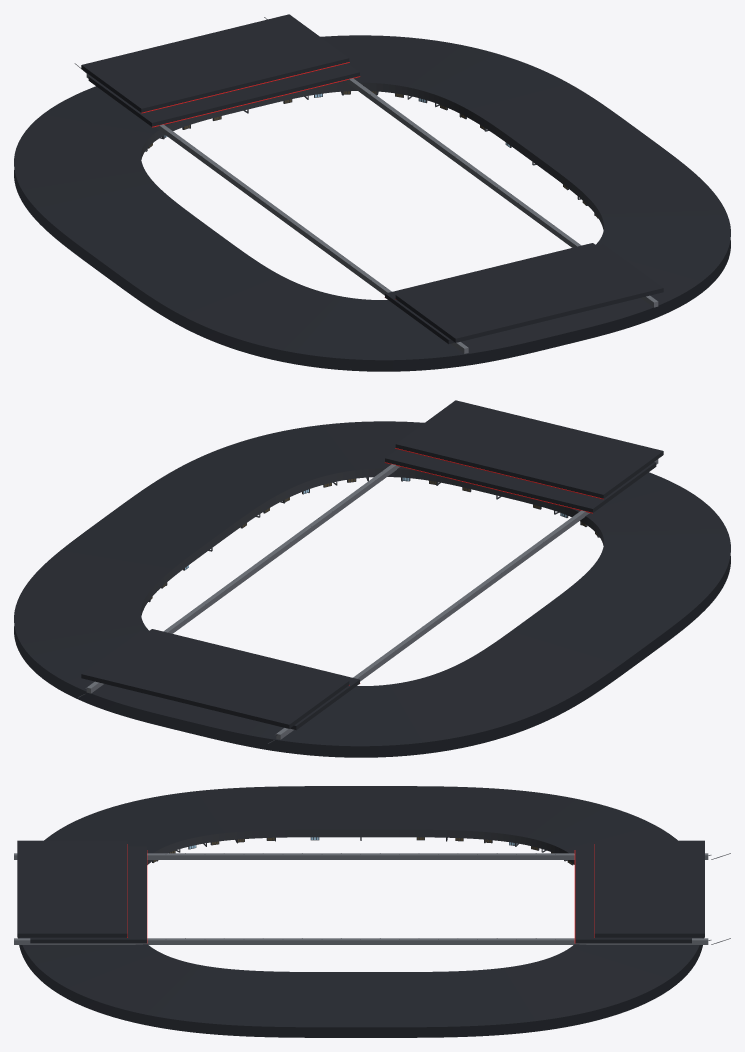
The model's file is RoofRing.obj.
3 renders of one model, top to bottom at view 1: azimuth 30°, elevation 25°; view 2: azimuth 150°, elevation 25°; view 3: azimuth 270°, elevation 25°, orthographic. The views are drawn at different scales.
Visible parts, largest first — view 1: RoofRing; view 2: RoofRing; view 3: RoofRing.
Part boxes in pixels (bbox=[...]): RoofRing: bbox=[14, 14, 730, 371]; RoofRing: bbox=[14, 400, 730, 757]; RoofRing: bbox=[14, 786, 730, 1037].
Bounding box in the file's own units: 176 × 10.58 × 221.
2 materials, 2 textured.
